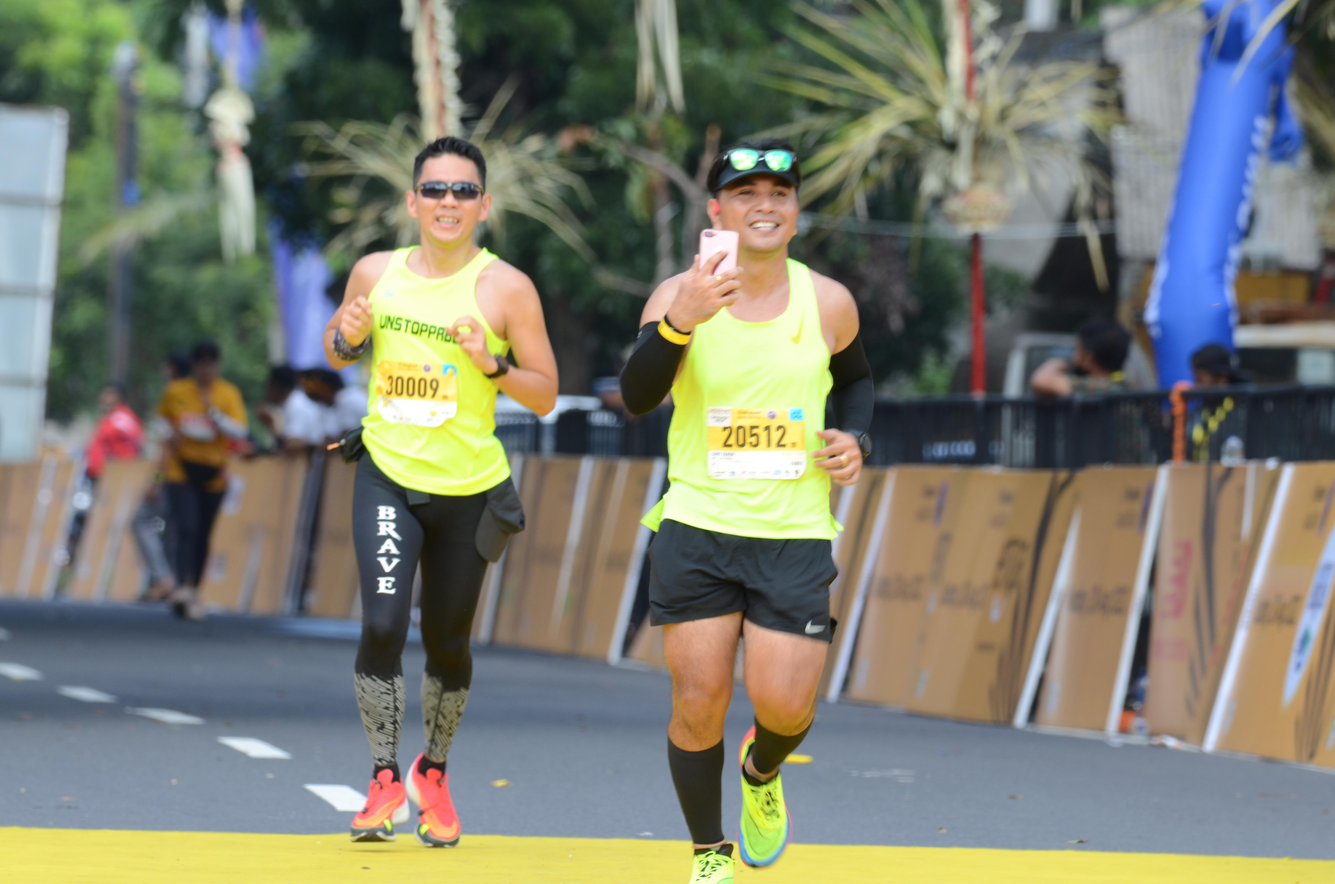bib: (707, 411, 804, 477), (381, 364, 457, 430)
